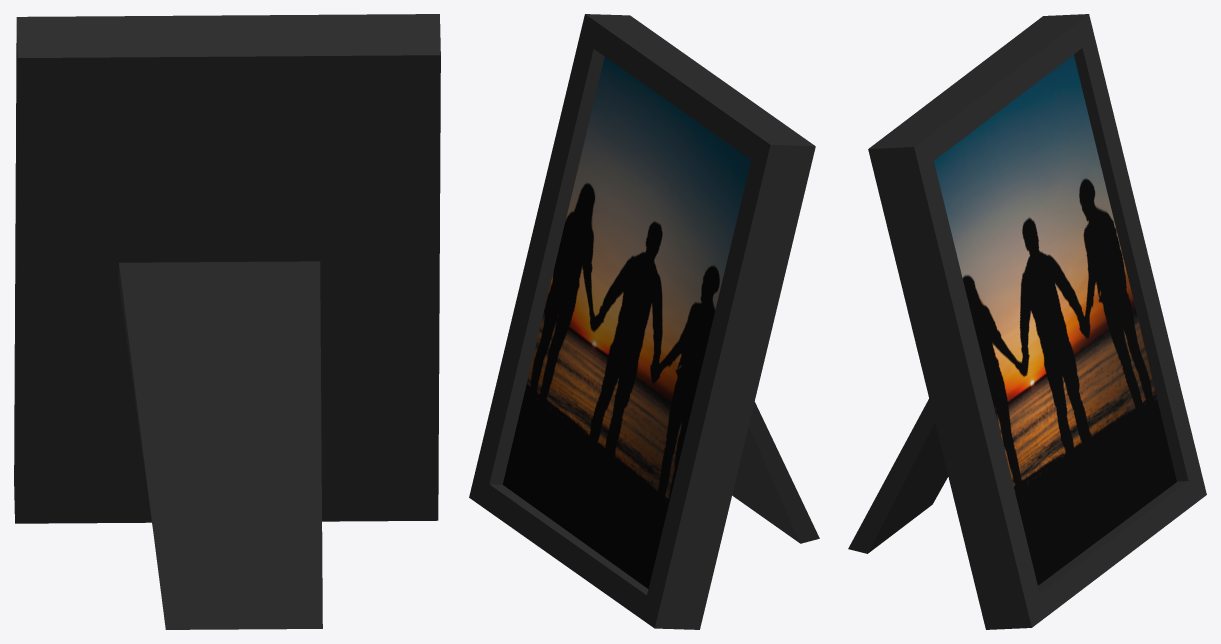
File: PhotoFrame.fbx
3 renders of one model, left to right at view 1: azimuth 30°, elevation 25°; view 2: azimuth 150°, elevation 25°; view 3: azimuth 270°, elevation 25°, orthographic. The views are drawn at different scales.
Parts seen in each view (by area): view 1: PhotoFrameOBJ; view 2: PhotoFrameOBJ; view 3: PhotoFrameOBJ.
Part boxes in pixels (left/top/right/bottom): PhotoFrameOBJ: left=14, top=14, right=440, bottom=629; PhotoFrameOBJ: left=469, top=14, right=819, bottom=629; PhotoFrameOBJ: left=848, top=14, right=1206, bottom=629.
Bounding box in the file's own units: 17.1 × 21.7 × 15.12.
Materials: 2 (2 with a texture image).
